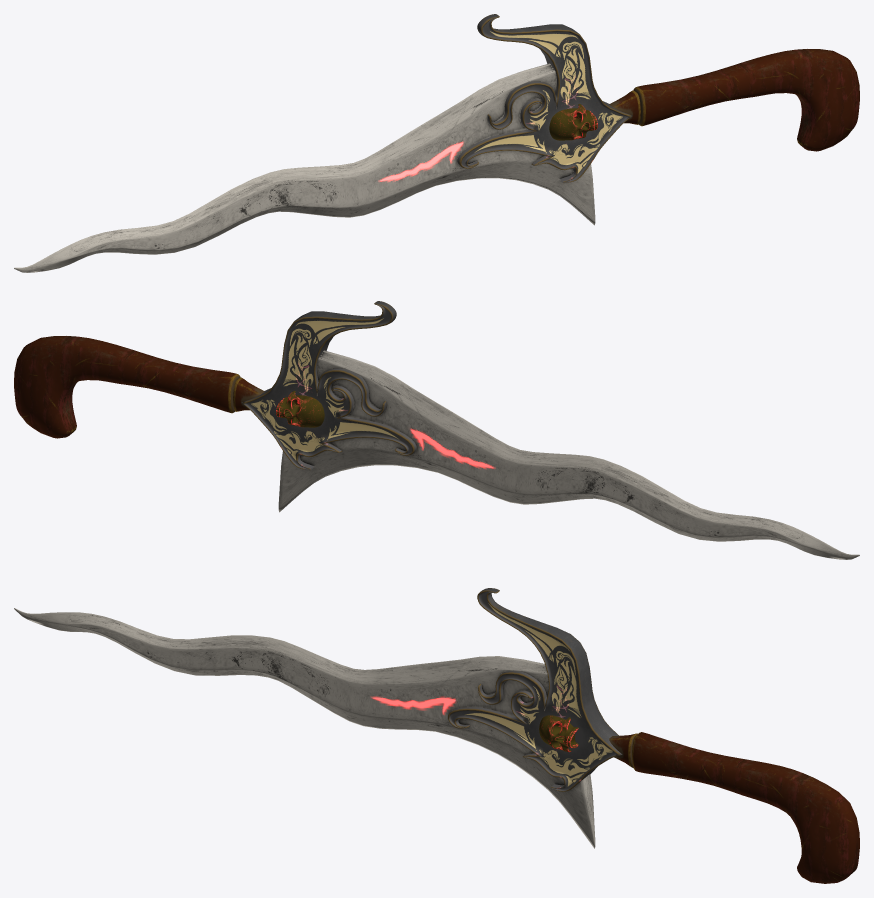
File: keris3.glb
3 renders of one model, top to bottom at view 1: azimuth 30°, elevation 25°; view 2: azimuth 150°, elevation 25°; view 3: azimuth 330°, elevation 25°, orthographic.
Parts seen in each view (by area): view 1: Plane, Plane.001, Plane.002, Plane.003; view 2: Plane, Plane.001, Plane.002, Plane.003; view 3: Plane, Plane.001, Plane.002, Plane.003.
Boxes of the visible parts, <box> form: Plane: <box>14,63,595,272</box>; Plane.001: <box>609,49,859,151</box>; Plane.002: <box>457,14,632,183</box>; Plane.003: <box>549,104,597,140</box>; Plane: <box>278,350,859,559</box>; Plane.001: <box>14,336,264,438</box>; Plane.002: <box>241,301,416,470</box>; Plane.003: <box>276,391,324,427</box>; Plane: <box>14,608,595,848</box>; Plane.001: <box>609,732,859,883</box>; Plane.002: <box>448,588,622,791</box>; Plane.003: <box>539,715,578,752</box>.
Bounding box in the file's own units: 13.29 × 3.53 × 0.7664.
4 materials, 4 textured.
